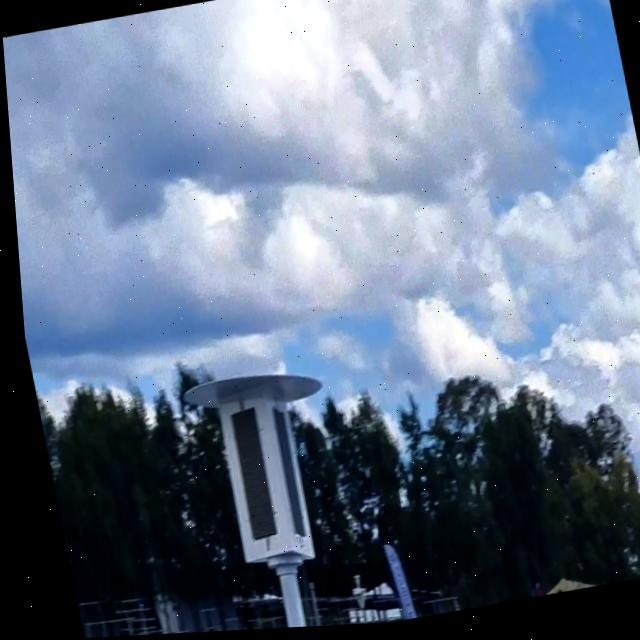led: (216, 400, 278, 547), (261, 400, 302, 549)
